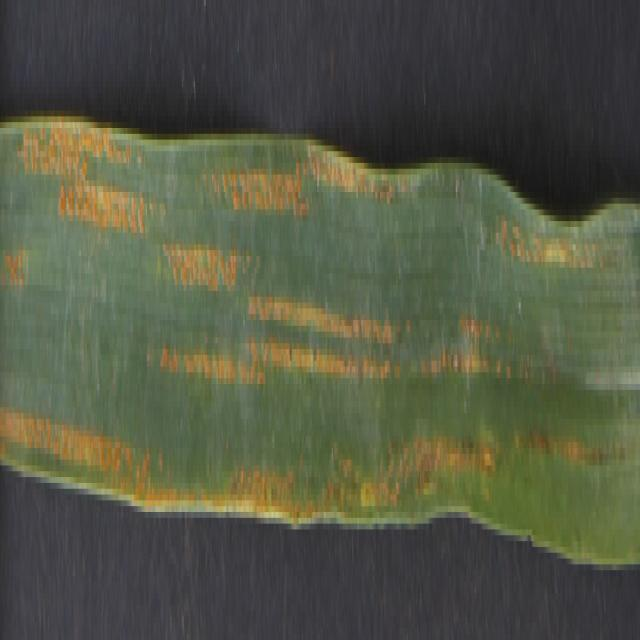leaf rust: (1, 29, 588, 564)
